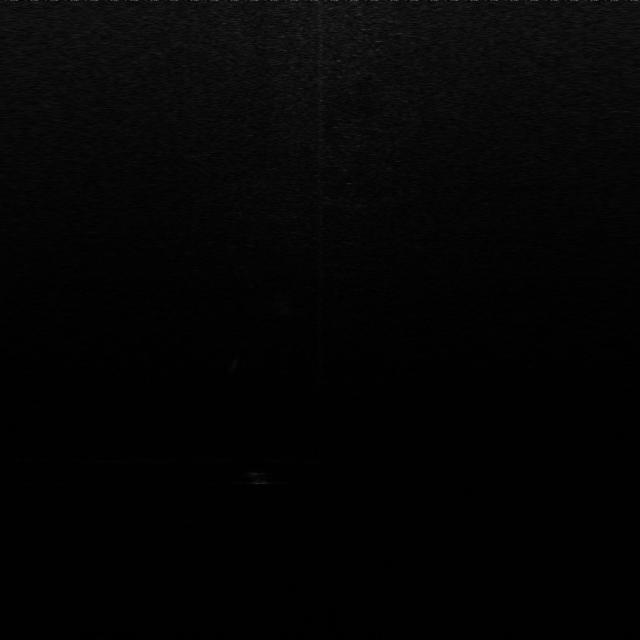ball: (248, 468, 277, 489)
